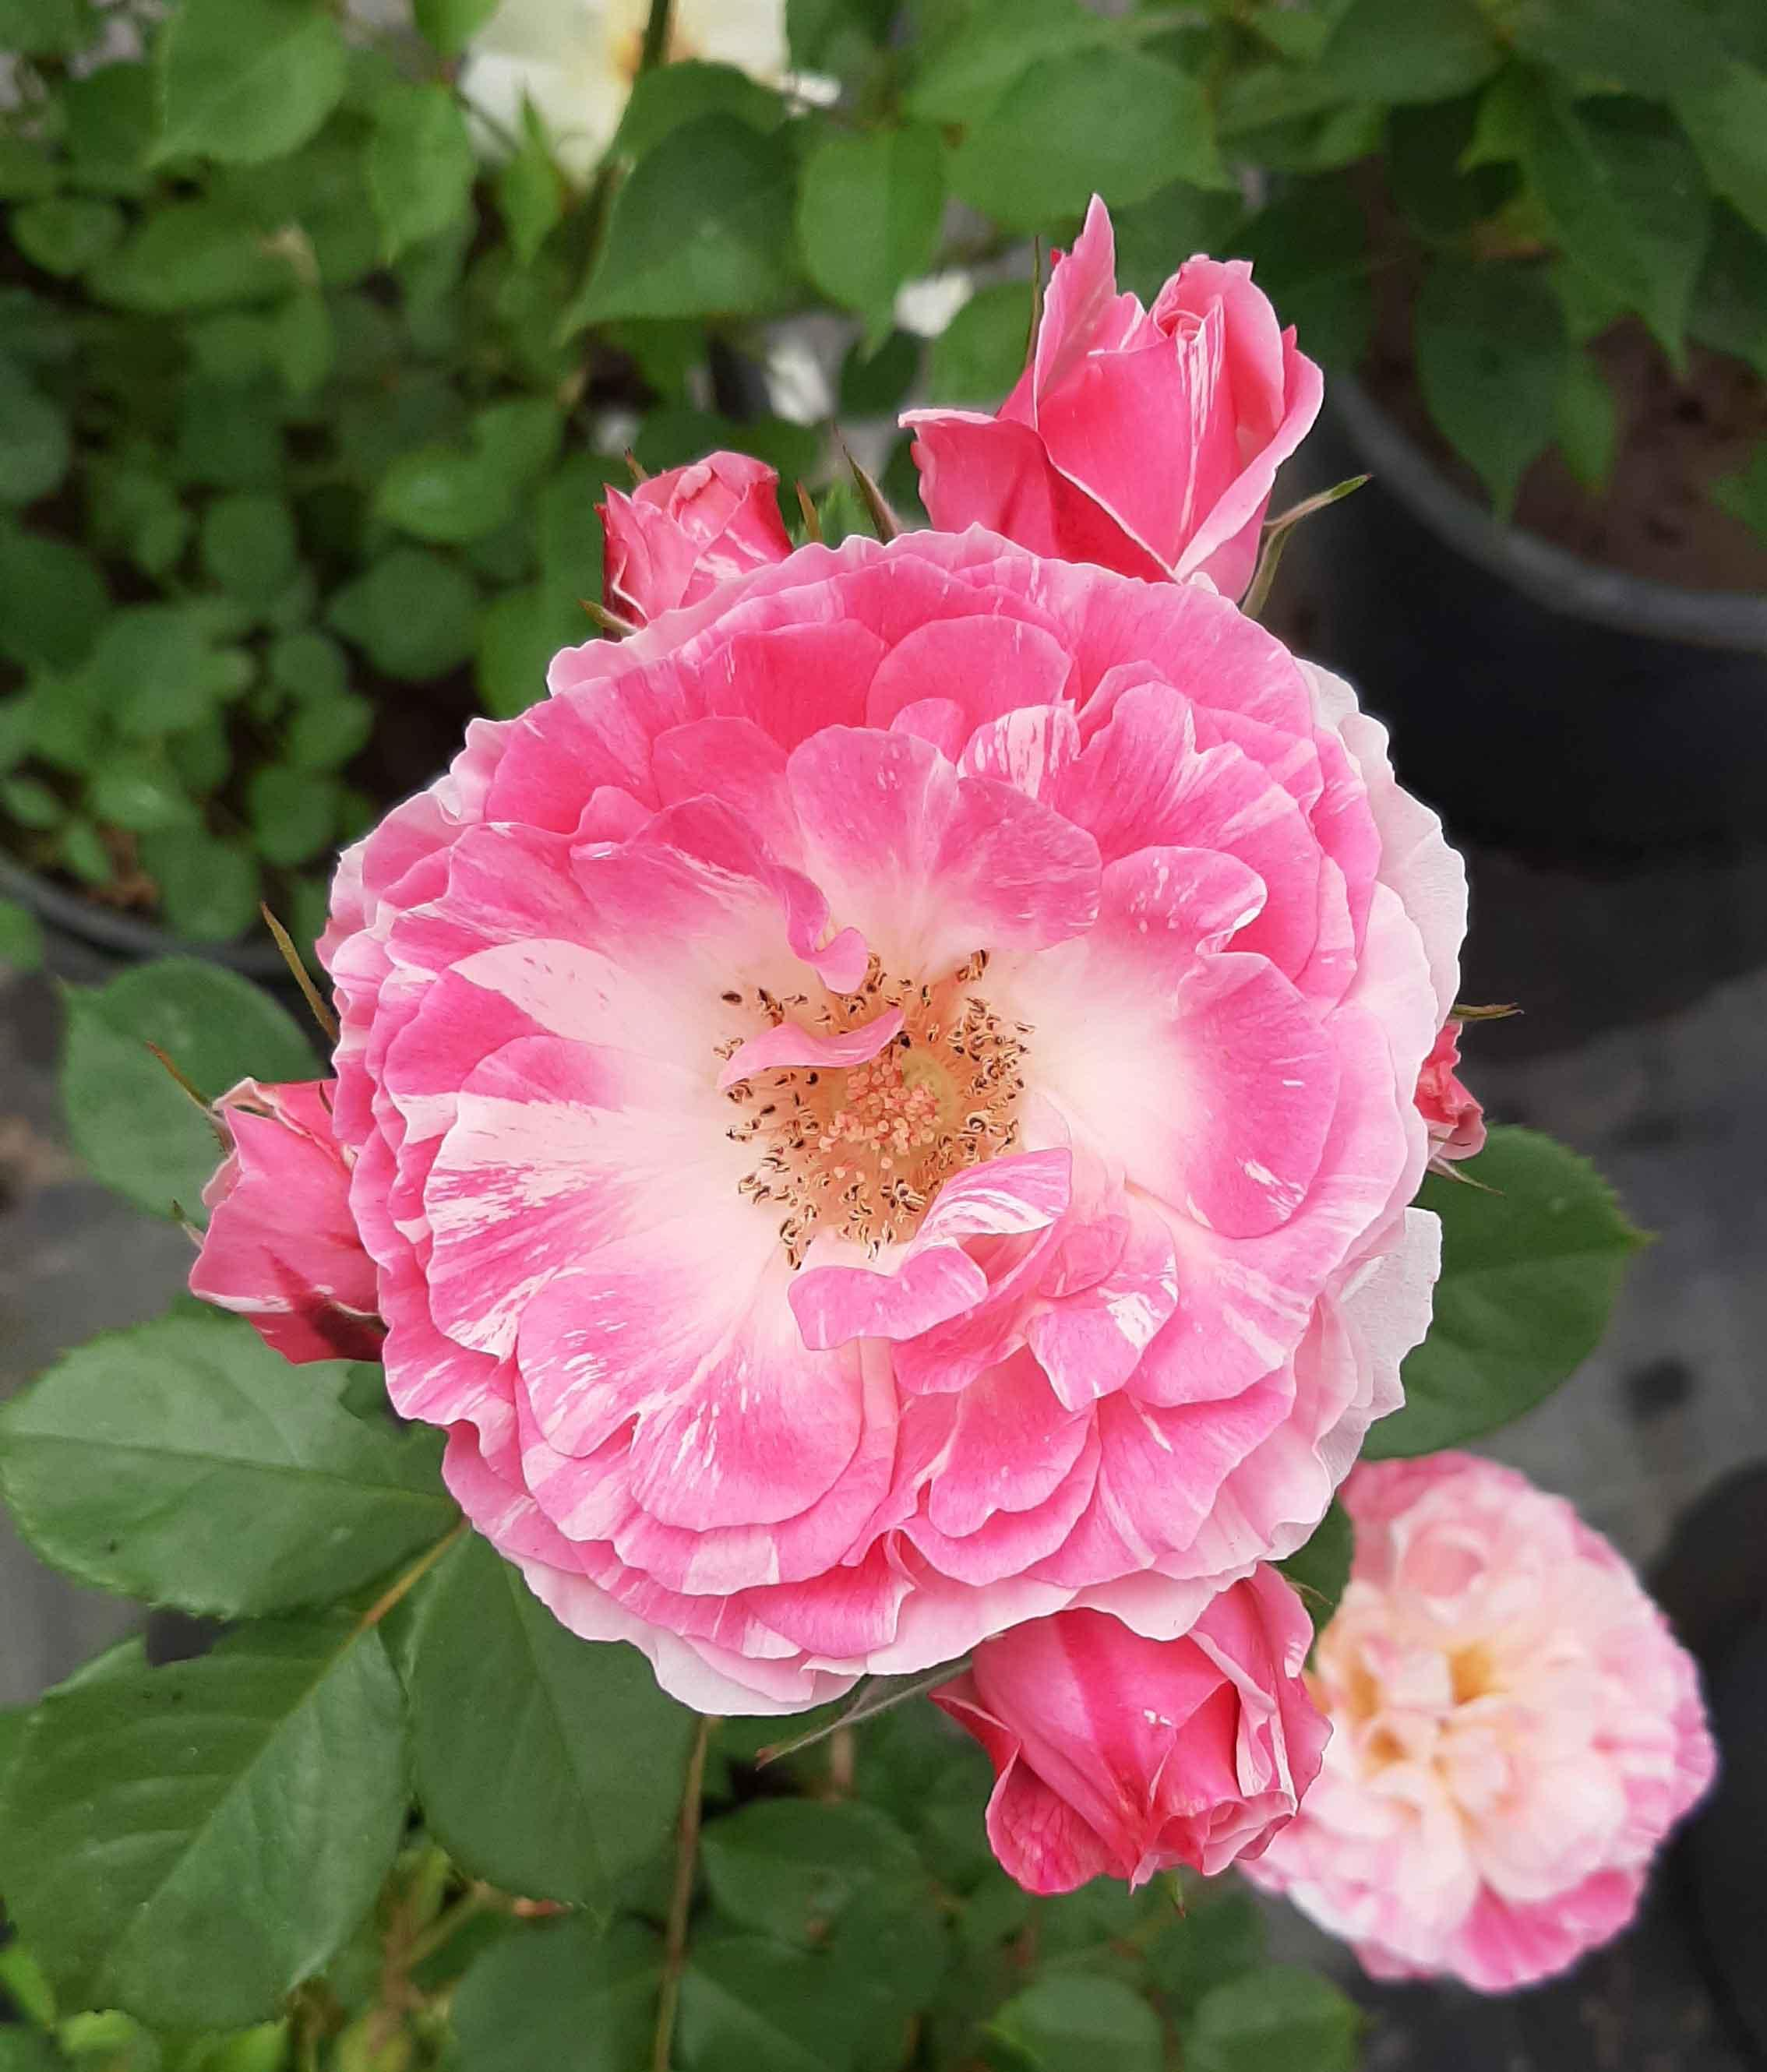Rose: (231, 624, 1472, 1697), (1299, 1418, 1737, 2072), (948, 161, 1413, 607), (983, 1562, 1413, 1937), (524, 429, 824, 635)
